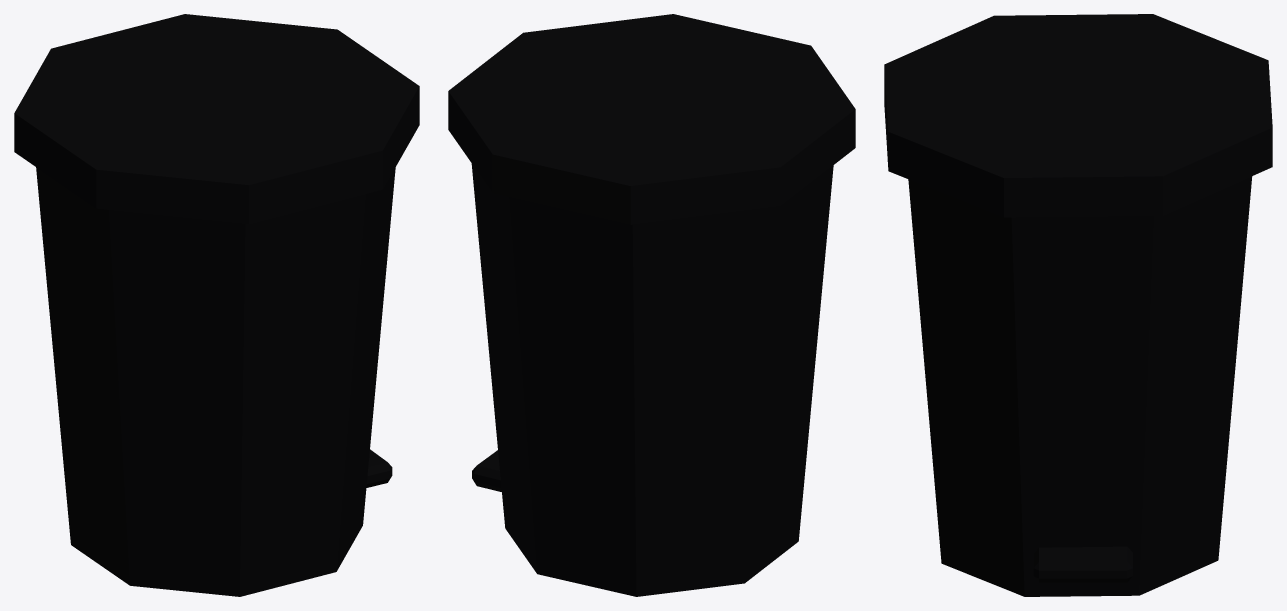
The model's file is caneca negra .fbx.
3 renders of one model, left to right at view 1: azimuth 30°, elevation 25°; view 2: azimuth 150°, elevation 25°; view 3: azimuth 270°, elevation 25°, orthographic.
Visible parts, largest first — view 1: Papelera Negro, Papelera Negra; view 2: Papelera Negro, Papelera Negra; view 3: Papelera Negro, Papelera Negra.
Part boxes in pixels (left/top/right/bottom): Papelera Negro: left=36, top=167, right=395, bottom=596; Papelera Negra: left=14, top=14, right=419, bottom=223; Papelera Negro: left=471, top=163, right=833, bottom=596; Papelera Negra: left=448, top=14, right=855, bottom=224; Papelera Negro: left=908, top=176, right=1252, bottom=596; Papelera Negra: left=884, top=14, right=1272, bottom=217.
Bounding box in the file's own units: 27.99 × 35.13 × 27.99.
Materials: 2 (2 with a texture image).
